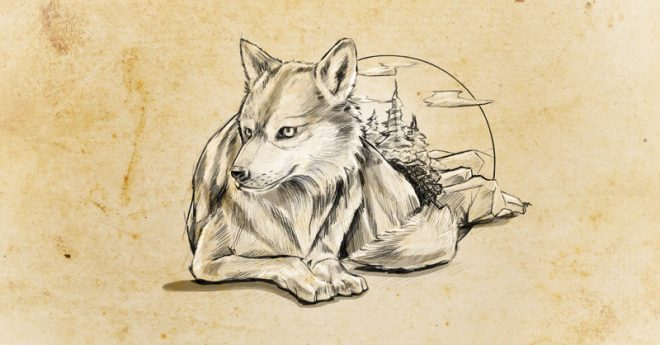Lobo: (163, 29, 468, 307)
